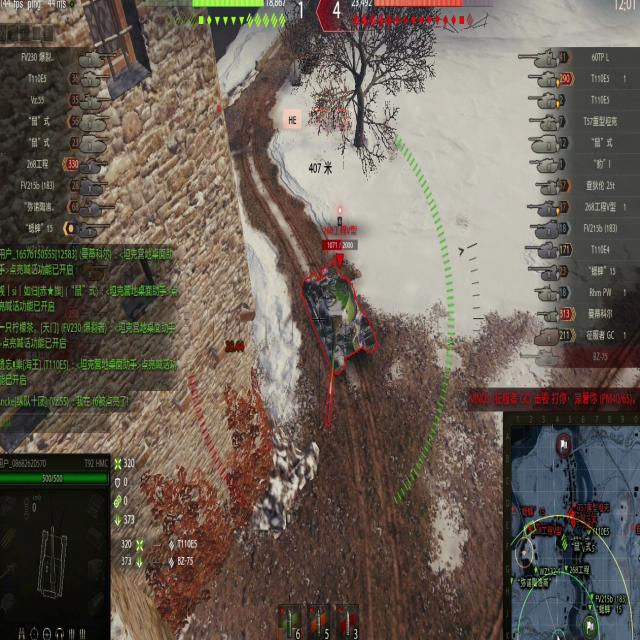tank: (288, 229, 398, 381)
